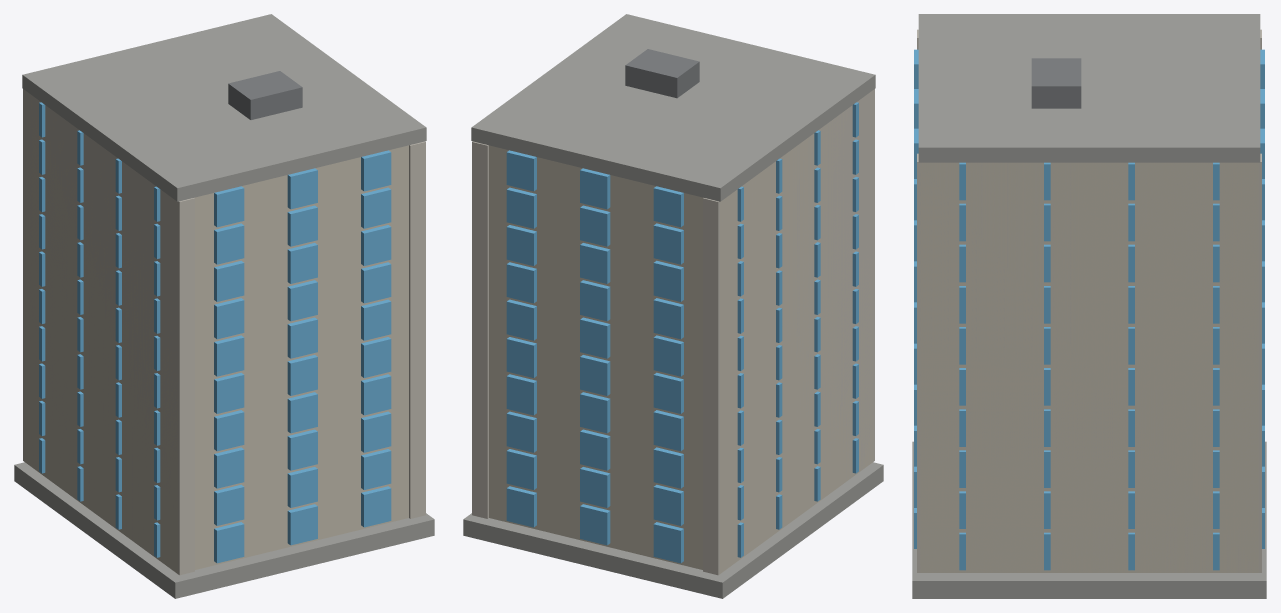
Rendered from res_predio_10.glb.
3 renders of one model, left to right at view 1: azimuth 30°, elevation 25°; view 2: azimuth 150°, elevation 25°; view 3: azimuth 270°, elevation 25°, orthographic. The views are drawn at different scales.
Visible parts, largest first — view 1: res_predio_10; view 2: res_predio_10; view 3: res_predio_10.
Part boxes in pixels (x1,y1,x2,y2): res_predio_10: (14,14,434,598); res_predio_10: (463,14,883,598); res_predio_10: (912,14,1266,598).
Size of the model in its own units: 0.4 by 0.63 by 0.43.
